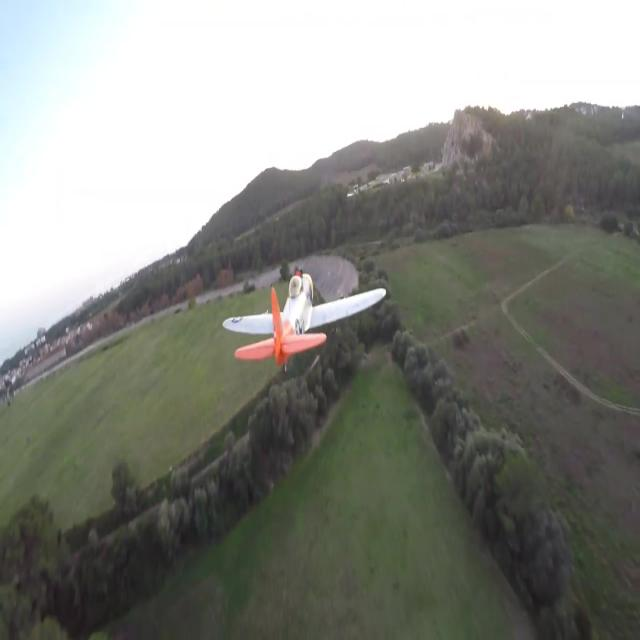iha: (222, 299, 387, 342)
